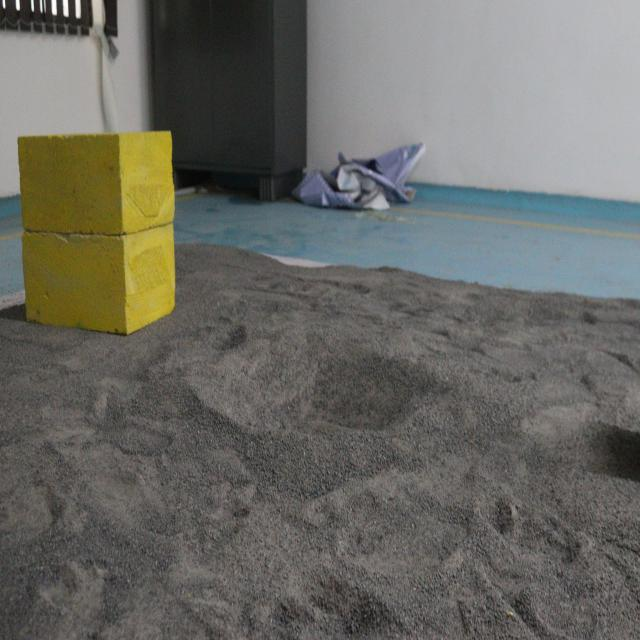box: (20, 132, 182, 352)
crater: (194, 306, 435, 444)
